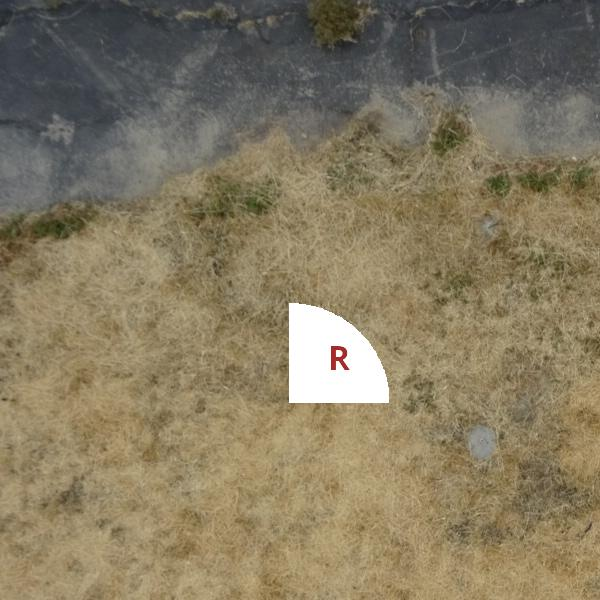QuarterCircle: (289, 303, 389, 403)
